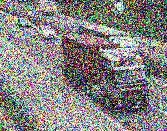car: (36, 24, 57, 40), (18, 18, 32, 28)
